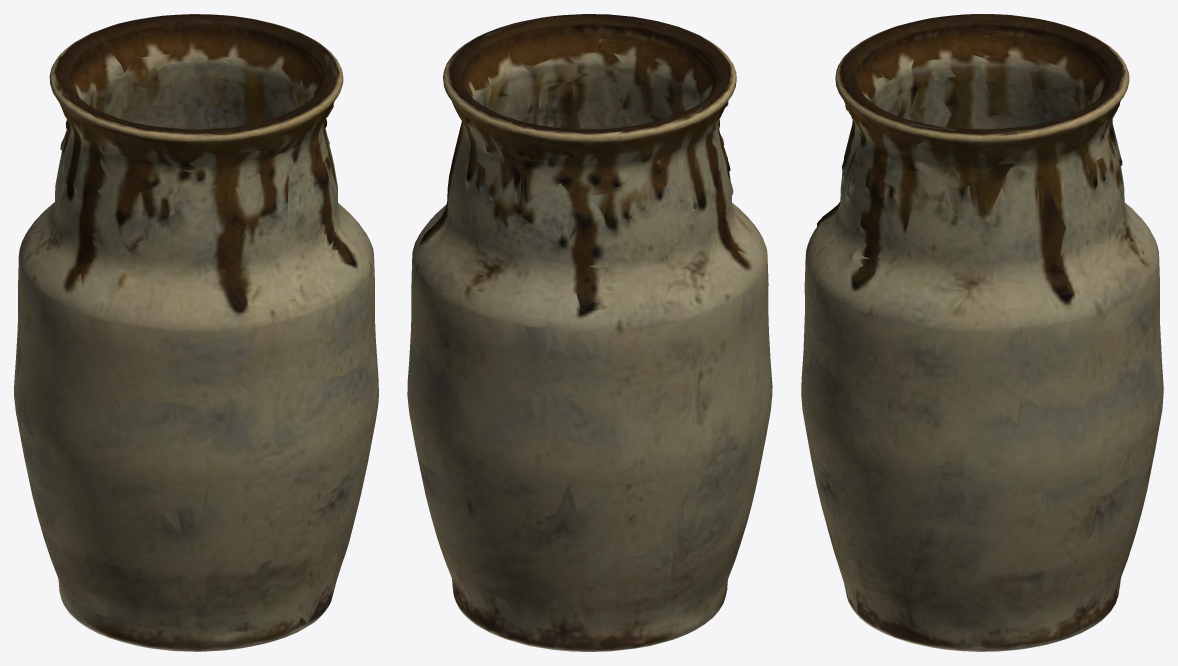
The model's file is MaterialPlace_06.glb.
3 renders of one model, left to right at view 1: azimuth 30°, elevation 25°; view 2: azimuth 150°, elevation 25°; view 3: azimuth 270°, elevation 25°, orthographic.
Visible parts, largest first — view 1: Meshy_AI_Drip_glazed_stoneware_0529164657_texture; view 2: Meshy_AI_Drip_glazed_stoneware_0529164657_texture; view 3: Meshy_AI_Drip_glazed_stoneware_0529164657_texture.
Boxes of the visible parts, box(x1,y1,x2,y2) form: Meshy_AI_Drip_glazed_stoneware_0529164657_texture: box(14, 14, 378, 651); Meshy_AI_Drip_glazed_stoneware_0529164657_texture: box(407, 14, 772, 651); Meshy_AI_Drip_glazed_stoneware_0529164657_texture: box(801, 14, 1163, 651).
Size of the model in its own units: 1.19 by 1.9 by 1.19.
1 material, 1 textured.
